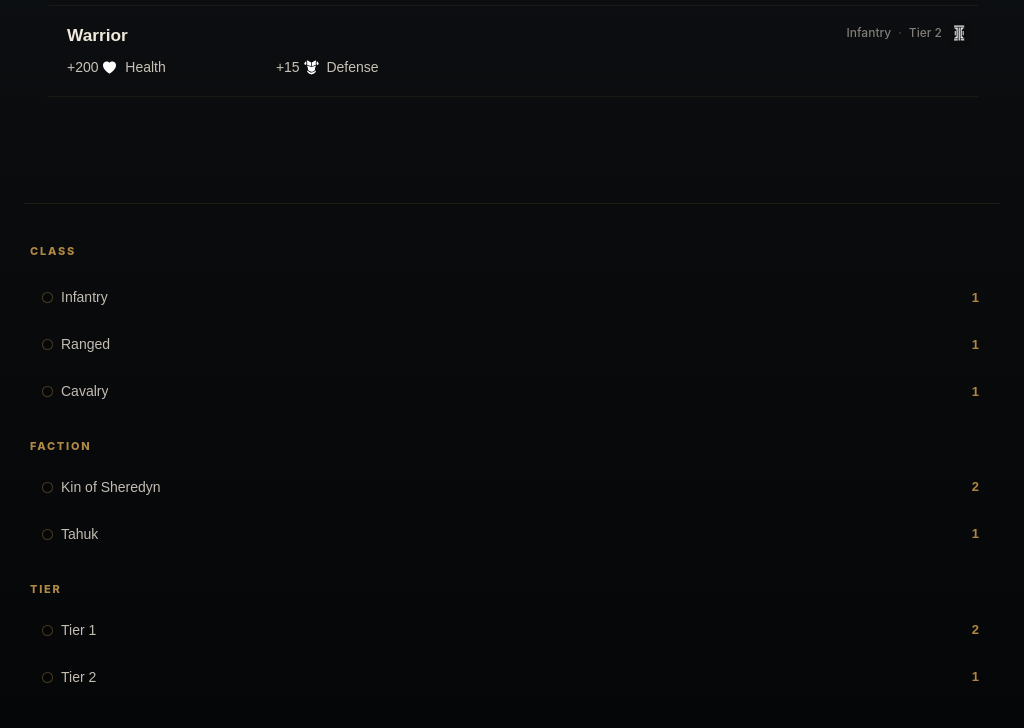
CodexPage Tech Equipment Hero Unit archives › renders Units as an archive with Class, Faction, and Tier filters
(page scrolled)
Expected: the button "Kin of Sheredyn 2" is shown, [30,465,990,509]
Expected: the button "Tier 1 2" is shown, [30,608,990,652]
Click the button "Ranged 1": x=86, y=344 [30,322,990,366]
(page scrolled)
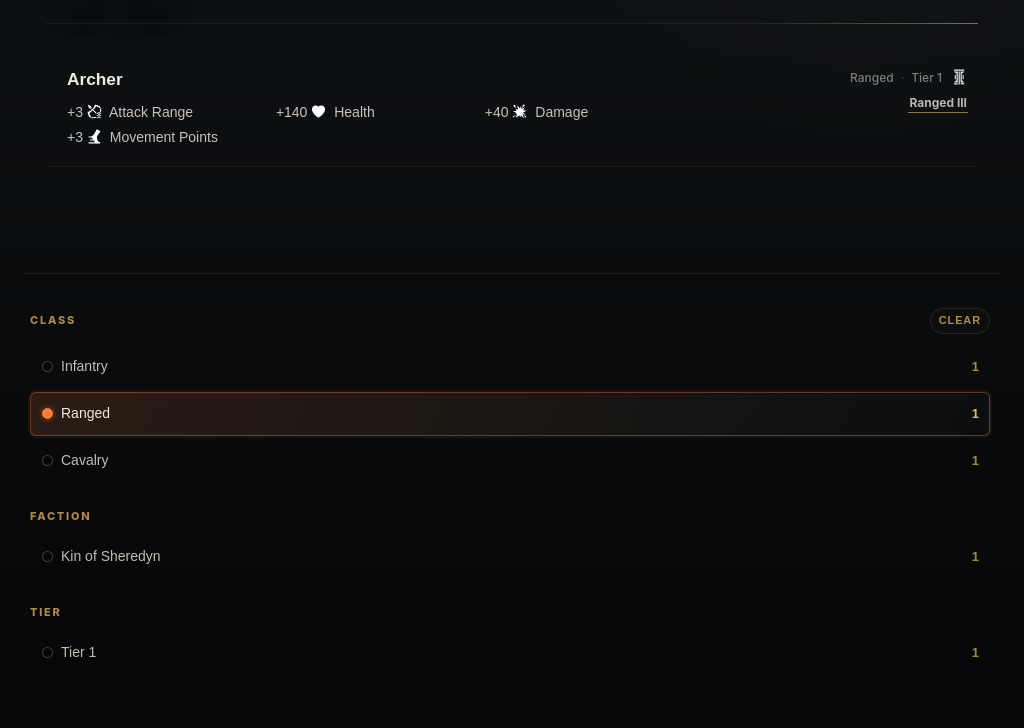
Expected: the button "Archer" is shown, [67,68,704,92]
Result: the button "Warrior" is gone
Click the button "Kin of Sheredyn 1": x=111, y=556 [30,535,990,579]
(page scrolled)
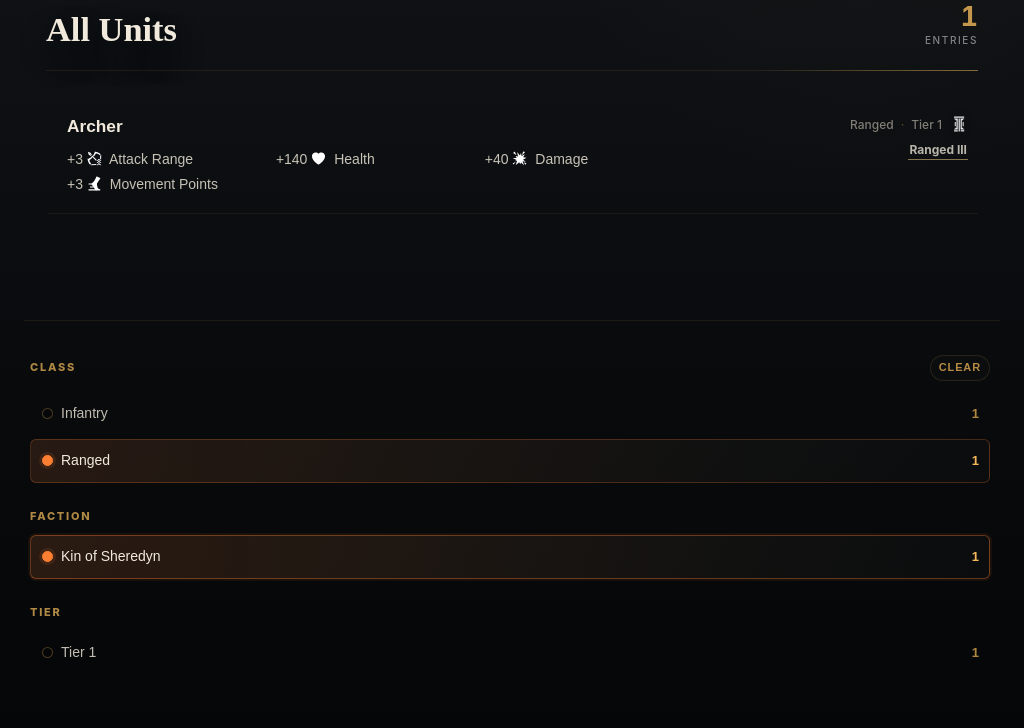
Expected: the button "Archer" is shown, [67,115,704,139]
Expected: the button "Rider" is not shown
Click the button "Clear": x=960, y=368 [930,355,990,381]
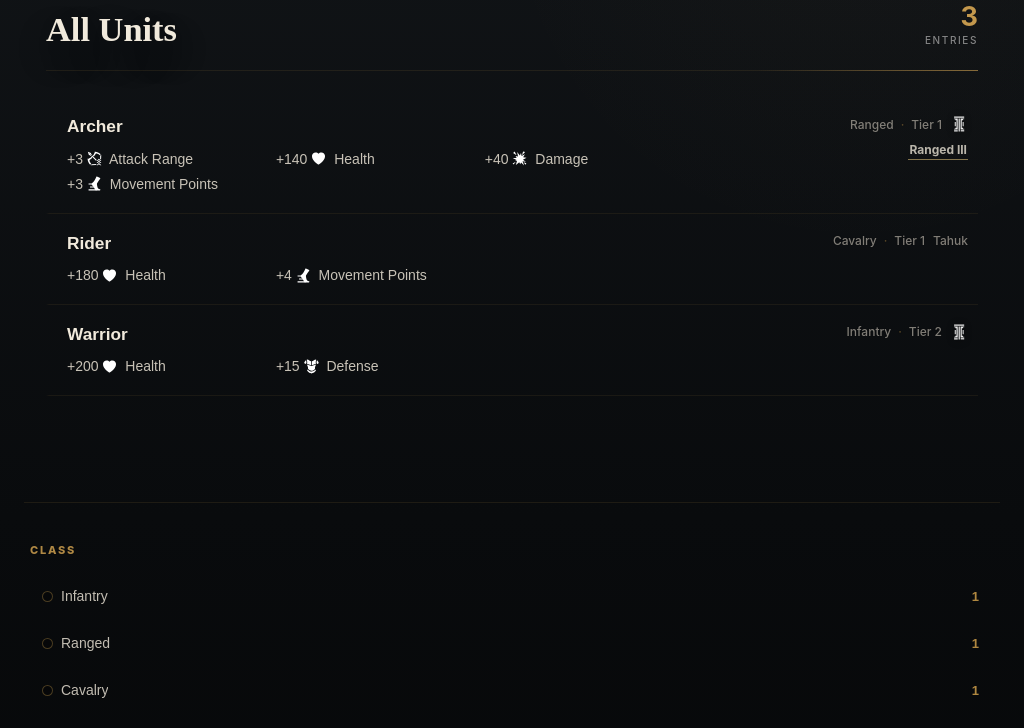
Result: the button "Warrior" is shown at [67,323,704,346]
Result: the button "Rider" is shown at [67,232,704,255]
